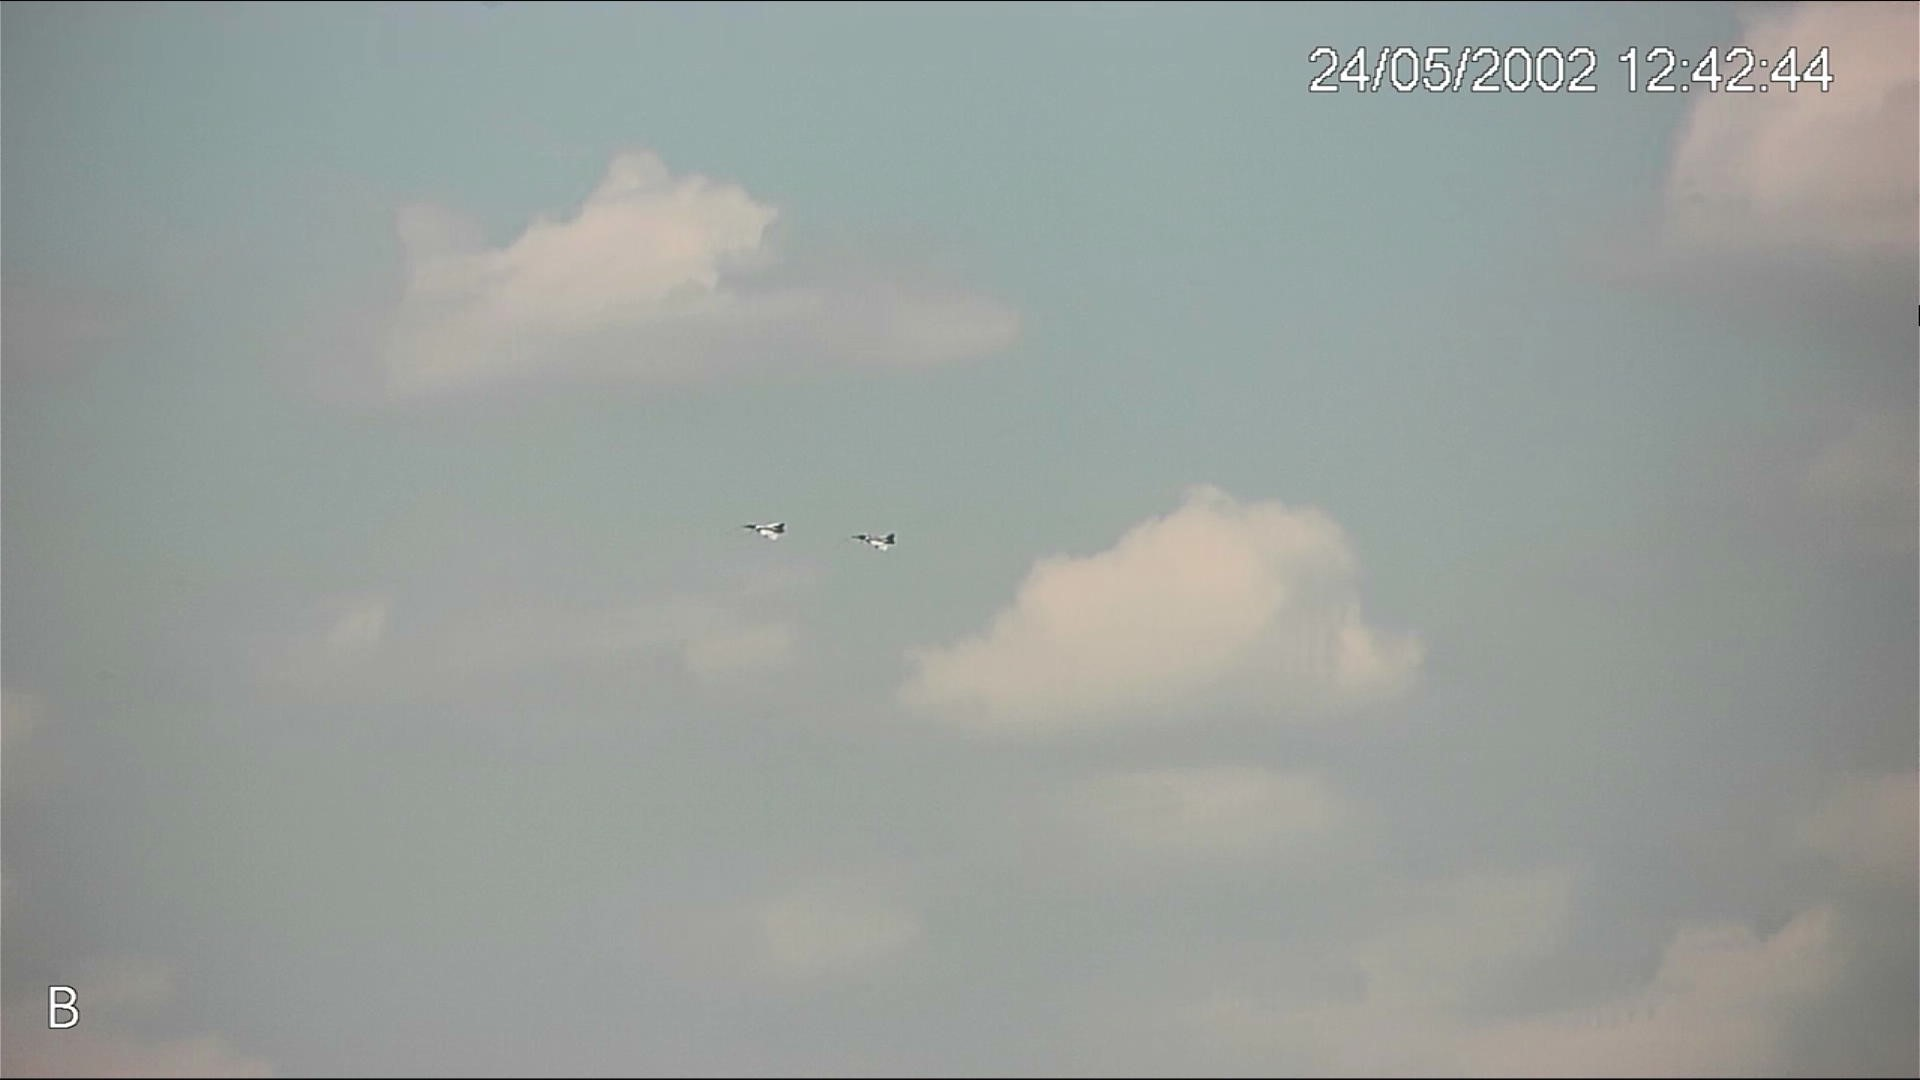SU_30: (744, 520, 790, 542), (852, 531, 899, 553)
